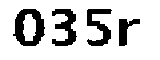0: (9, 5, 46, 51)
3: (46, 3, 79, 54)
5: (79, 3, 116, 52)
r: (116, 15, 140, 52)
